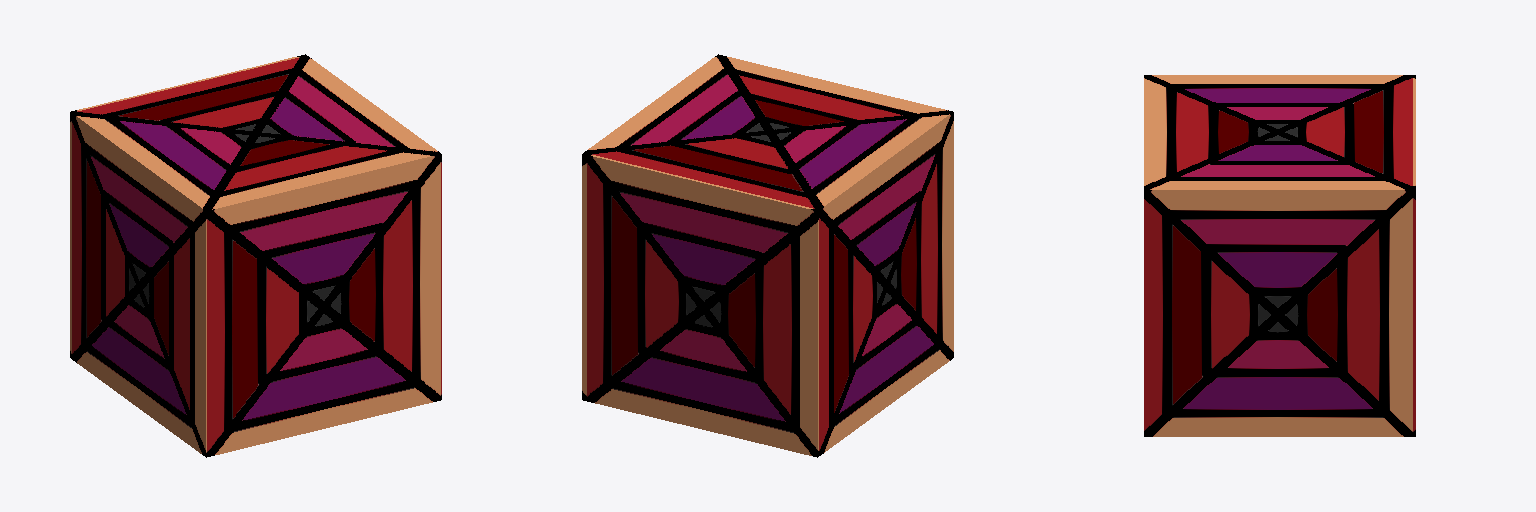
3 views of the same model, side by side, from view 1: azimuth 30°, elevation 25°; view 2: azimuth 150°, elevation 25°; view 3: azimuth 270°, elevation 25° (orthographic).
Visible parts, largest first — view 1: Cube; view 2: Cube; view 3: Cube.
Part boxes in pixels (x1,y1,x2,y2): Cube: (70, 54, 441, 457); Cube: (582, 54, 953, 457); Cube: (1144, 75, 1415, 436).
Size of the model in its own units: 1 by 1 by 1.
Materials: 1 (1 with a texture image).